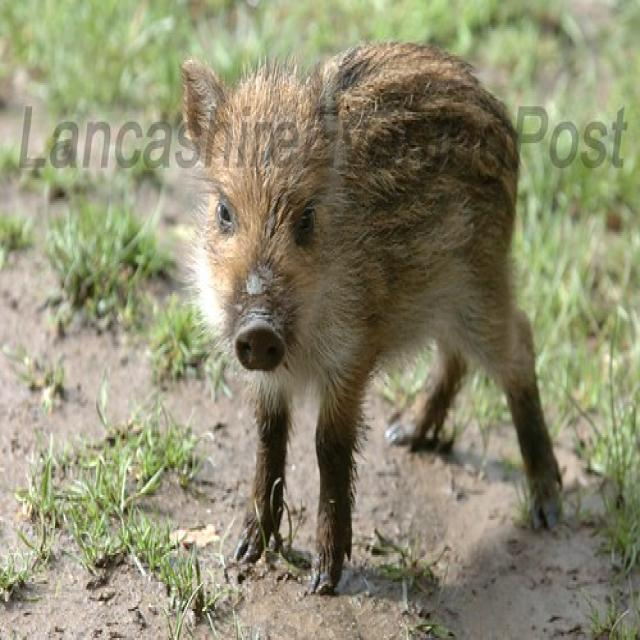boar: (153, 22, 609, 612)
